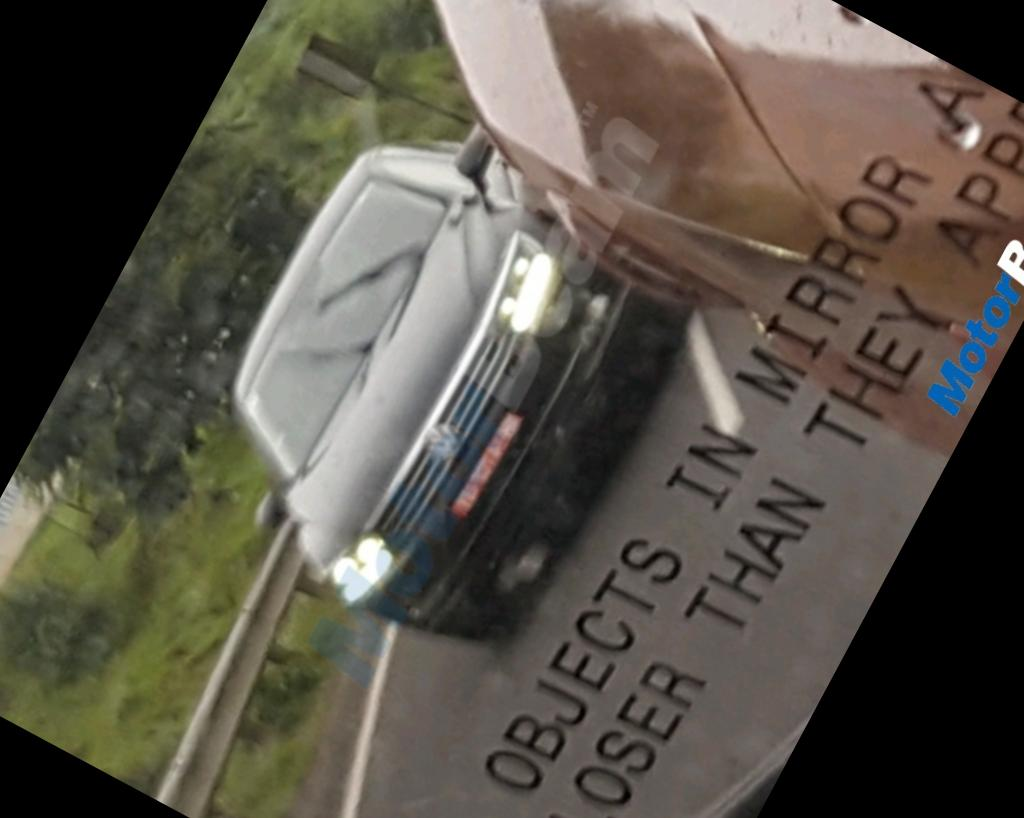plate: (439, 394, 545, 539)
